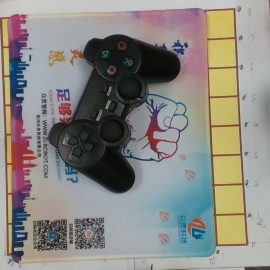remote: (49, 36, 180, 195)
